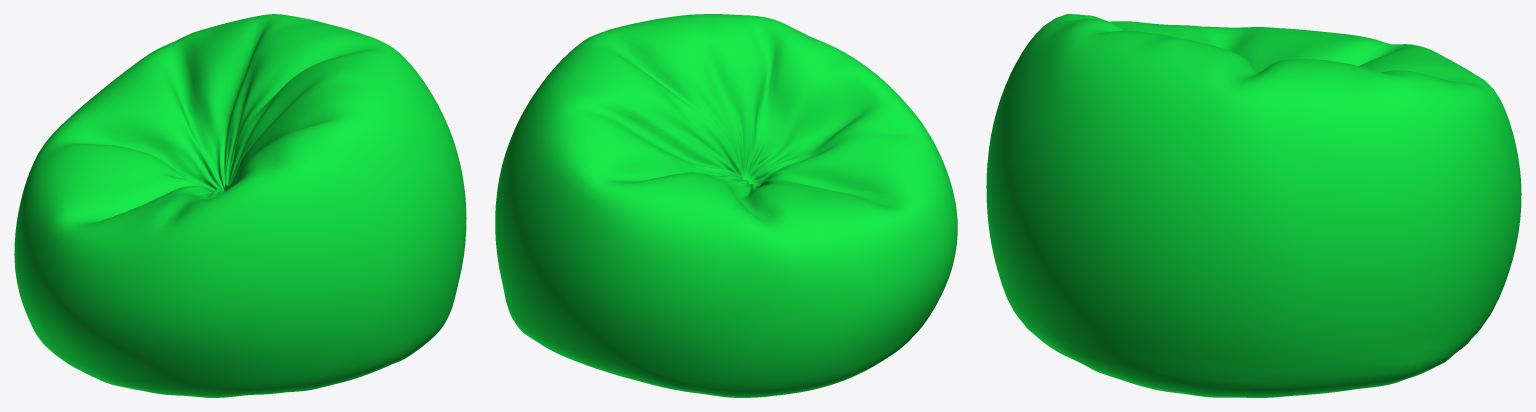
File: BeanBag.fbx
The picture shows the model from 3 angles, left to right: view 1: azimuth 30°, elevation 25°; view 2: azimuth 150°, elevation 25°; view 3: azimuth 270°, elevation 25°; orthographic projection. The views are drawn at different scales.
Parts seen in each view (by area): view 1: Sphere; view 2: Sphere; view 3: Sphere.
Boxes of the visible parts, bbox=[...] form: Sphere: bbox=[14, 14, 466, 397]; Sphere: bbox=[495, 14, 957, 397]; Sphere: bbox=[986, 14, 1521, 397].
Size of the model in its own units: 207 by 130 by 201.
